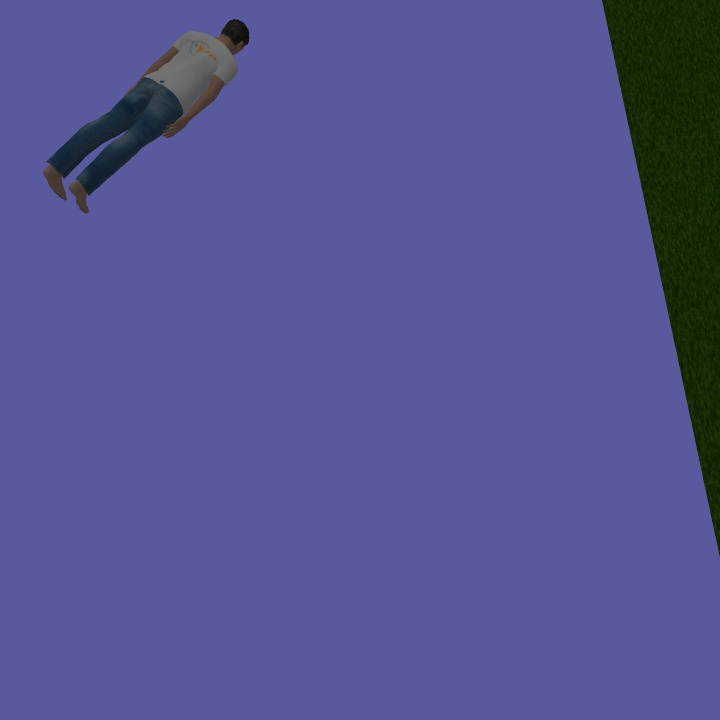victim: (42, 15, 254, 216)
